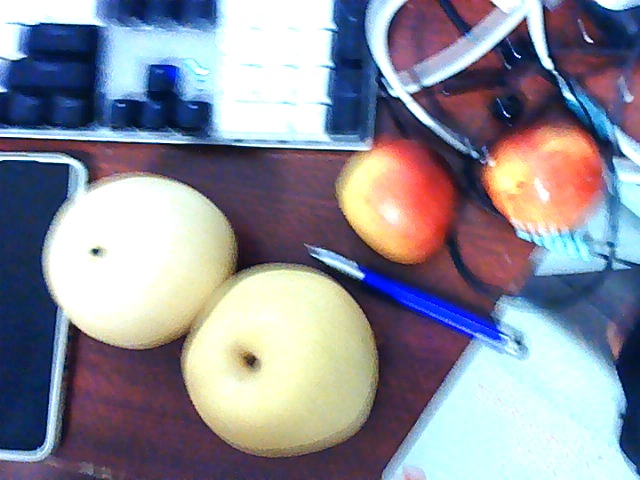peach: (333, 139, 458, 258), (492, 117, 606, 233)
pear: (194, 272, 383, 451), (40, 168, 215, 345)
